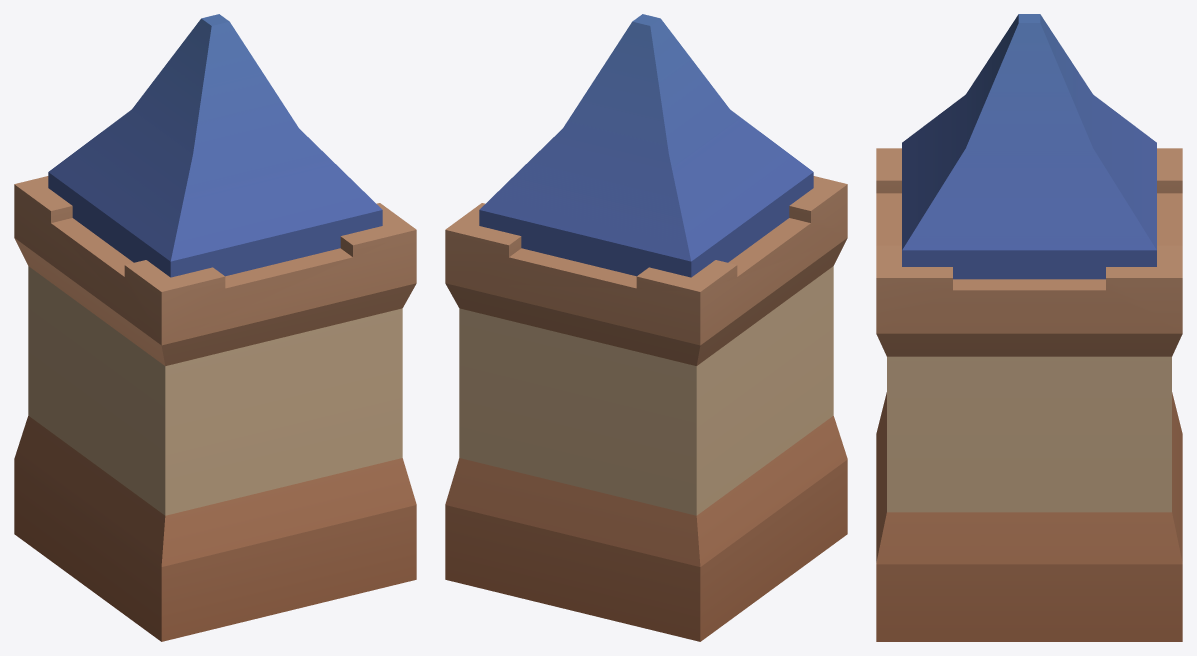
Rendered from tower-square-roof.glb.
3 views of the same model, side by side, from view 1: azimuth 30°, elevation 25°; view 2: azimuth 150°, elevation 25°; view 3: azimuth 270°, elevation 25° (orthographic). The views are drawn at different scales.
Parts seen in each view (by area): view 1: tower-square-roof; view 2: tower-square-roof; view 3: tower-square-roof.
Part boxes in pixels (left/top/right/bottom): tower-square-roof: left=14, top=14, right=416, bottom=641; tower-square-roof: left=445, top=14, right=847, bottom=641; tower-square-roof: left=876, top=14, right=1182, bottom=641.
Bounding box in the file's own units: 1 × 2.01 × 1.
